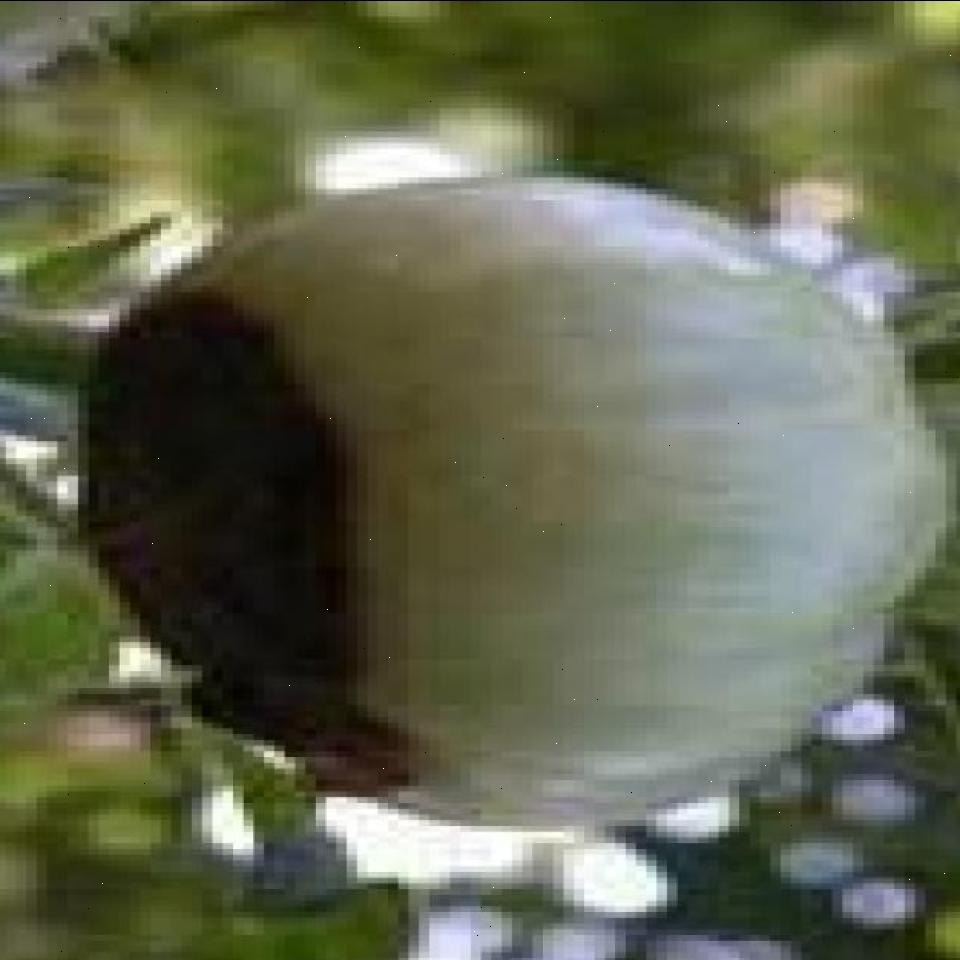Blossom_end_rot: (88, 293, 430, 810)
